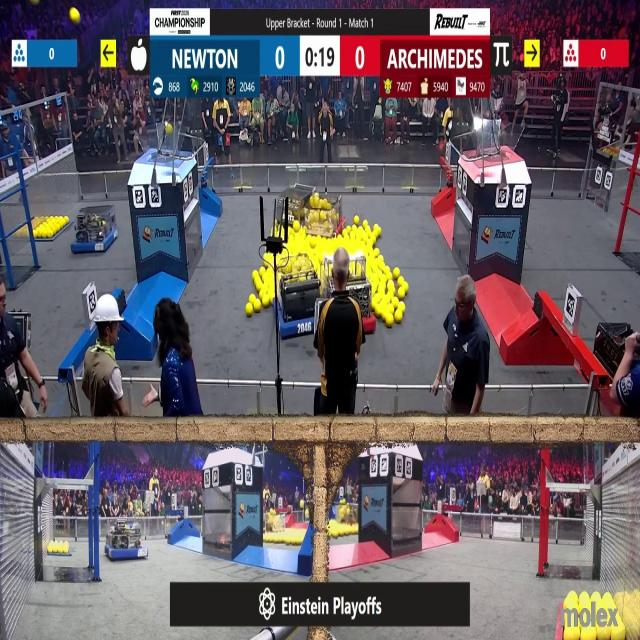ball_airborne: (69, 8, 79, 22), (166, 126, 172, 136)
ball_ground: (395, 312, 402, 324), (396, 288, 404, 298), (253, 302, 260, 313), (246, 305, 253, 315), (393, 269, 399, 279), (353, 216, 359, 224), (398, 303, 403, 312), (249, 294, 255, 301), (56, 224, 60, 232)
goal: (467, 122, 523, 160), (137, 130, 192, 159)
robot_blue: (275, 254, 320, 338), (73, 203, 115, 252), (108, 521, 147, 561)
robot_red: (306, 192, 345, 238)
